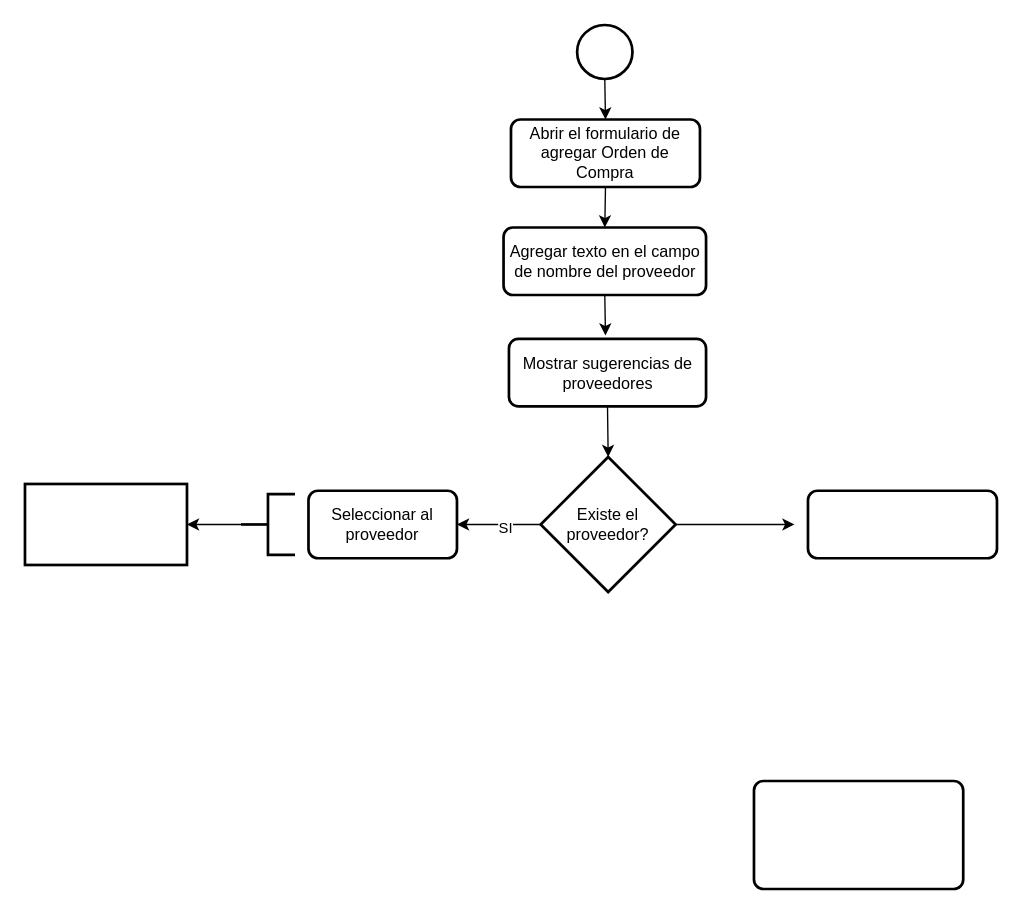
Some shapes in this 1021 by 913 pixel diagram are drawn without their labels. Here are the shapes that lost their labels. From the top down, the box of each, then its label:
(23, 482, 188, 566): Al seleccionar al proveedor obtendremos el objeto completo
(806, 489, 998, 559): Mensaje que debe de agregar al proveedor primero
(752, 779, 964, 890): Agregar productos del proveedor a la tabla de comprar
